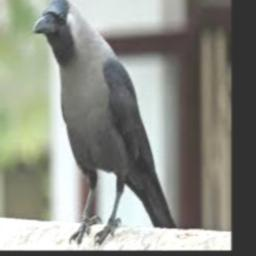Crow: (33, 0, 178, 247)
